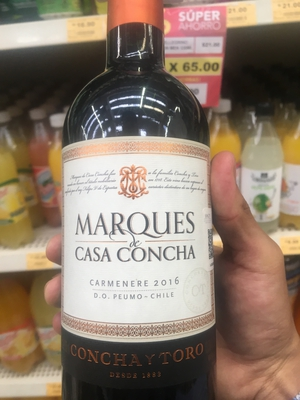marques de casa concha carmenere: (60, 6, 221, 386)
